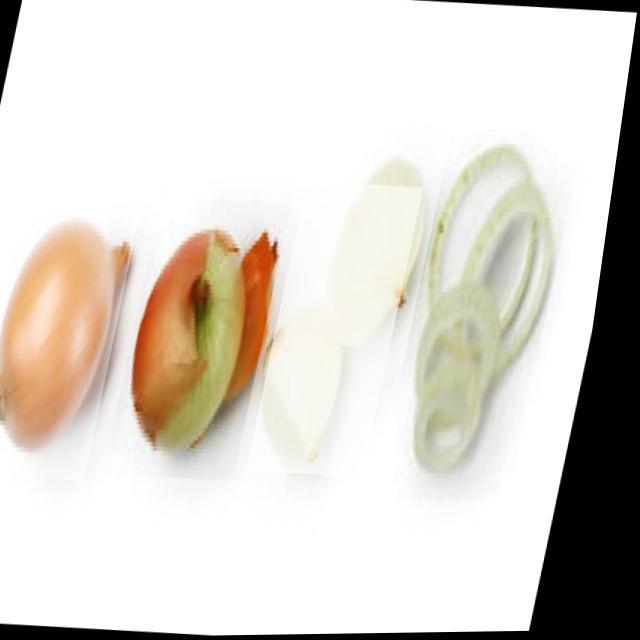Onion: (389, 127, 589, 507), (116, 194, 298, 483), (258, 180, 430, 480), (0, 185, 151, 482)
